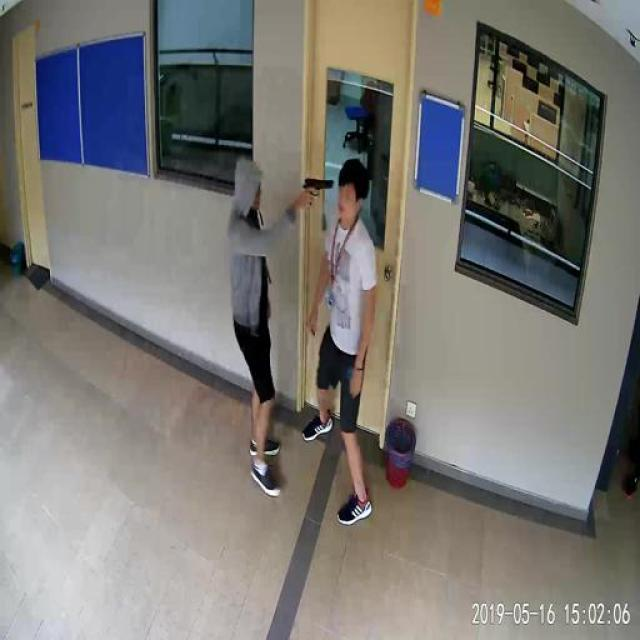Gun: (296, 164, 333, 212)
